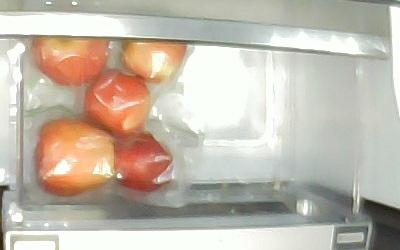apple_vinyl: (34, 119, 115, 195), (84, 69, 151, 138), (113, 132, 174, 193), (31, 40, 111, 86), (119, 44, 187, 82)
